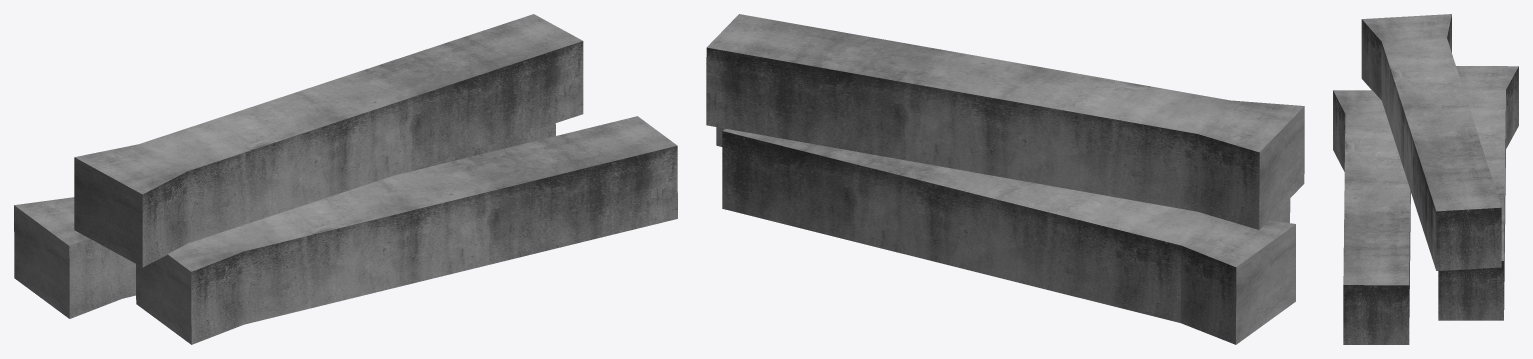
Rendered from pilarSmall2.fbx.
The picture shows the model from 3 angles, left to right: view 1: azimuth 30°, elevation 25°; view 2: azimuth 150°, elevation 25°; view 3: azimuth 270°, elevation 25°; orthographic projection. The views are drawn at different scales.
Parts seen in each view (by area): view 1: pilars 2; view 2: pilars 2; view 3: pilars 2.
Boxes of the visible parts, x1,y1,x2,y2 form: pilars 2: [14, 14, 677, 344]; pilars 2: [706, 14, 1304, 344]; pilars 2: [1333, 14, 1518, 344].
Size of the model in its own units: 5.62 by 1.43 by 1.99.
